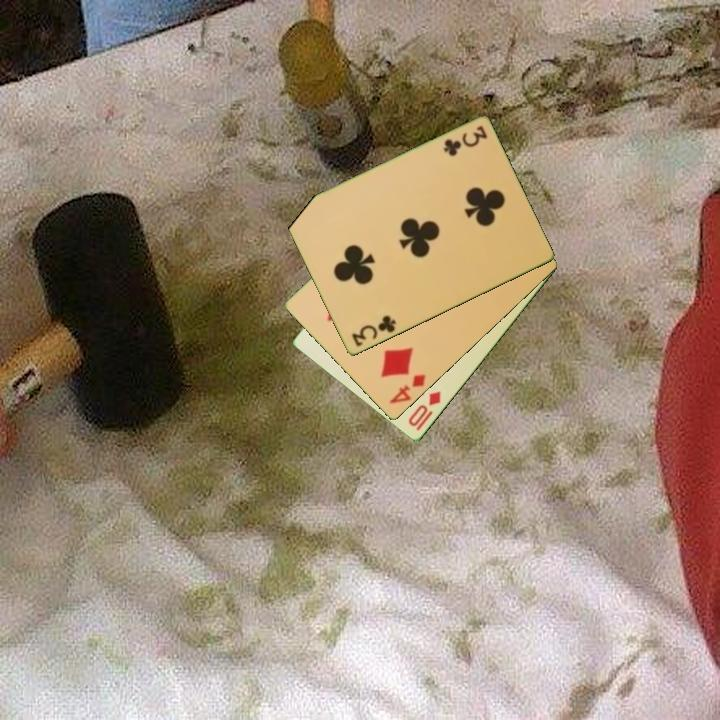10d: (404, 388, 444, 430)
3c: (348, 312, 399, 350), (440, 122, 490, 159)
4d: (386, 371, 429, 407)
